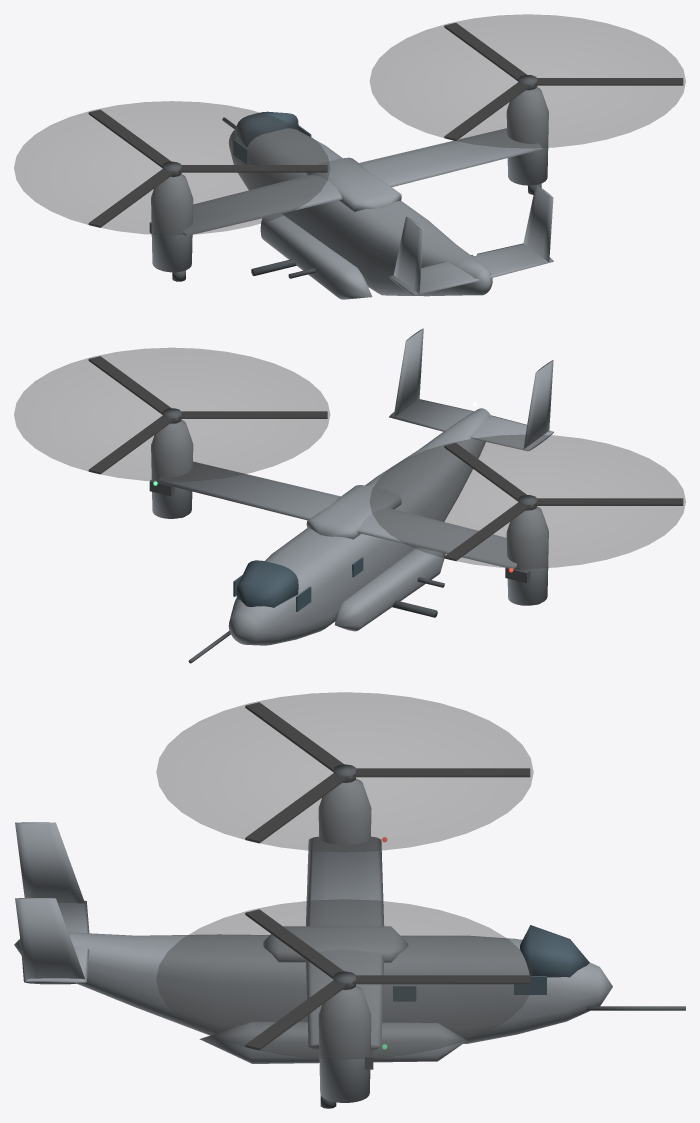
The model's file is vtol-warship.glb.
The picture shows the model from 3 angles, top to bottom: view 1: azimuth 30°, elevation 25°; view 2: azimuth 150°, elevation 25°; view 3: azimuth 270°, elevation 25°; orthographic projection. The views are drawn at different scales.
Visible parts, largest first — view 1: VTOL_Hull, VTOL_Blur_R, VTOL_Blur_L, VTOL_Nacelle_L, VTOL_Rotor_R, VTOL_Rotor_L, VTOL_Nacelle_R; view 2: VTOL_Hull, VTOL_Blur_L, VTOL_Blur_R, VTOL_Nacelle_L, VTOL_Rotor_L, VTOL_Rotor_R, VTOL_Nacelle_R; view 3: VTOL_Hull, VTOL_Blur_L, VTOL_Blur_R, VTOL_Nacelle_R, VTOL_Rotor_L, VTOL_Rotor_R, VTOL_Nacelle_L.
Part boxes in pixels (x1=…): VTOL_Hull: x1=183, y1=111, x2=553, y2=299; VTOL_Blur_R: x1=370, y1=14, x2=685, y2=148; VTOL_Blur_L: x1=14, y1=101, x2=329, y2=234; VTOL_Nacelle_L: x1=149, y1=174, x2=193, y2=281; VTOL_Rotor_R: x1=444, y1=23, x2=683, y2=140; VTOL_Rotor_L: x1=88, y1=109, x2=327, y2=227; VTOL_Nacelle_R: x1=506, y1=87, x2=548, y2=194; VTOL_Hull: x1=157, y1=328, x2=553, y2=663; VTOL_Blur_L: x1=370, y1=434, x2=685, y2=568; VTOL_Blur_R: x1=14, y1=348, x2=329, y2=481; VTOL_Nacelle_L: x1=505, y1=507, x2=548, y2=605; VTOL_Rotor_L: x1=444, y1=443, x2=683, y2=560; VTOL_Rotor_R: x1=88, y1=356, x2=327, y2=474; VTOL_Nacelle_R: x1=149, y1=420, x2=193, y2=518; VTOL_Hull: x1=14, y1=822, x2=685, y2=1063; VTOL_Blur_L: x1=156, y1=692, x2=533, y2=851; VTOL_Blur_R: x1=156, y1=899, x2=533, y2=1058; VTOL_Nacelle_R: x1=318, y1=986, x2=373, y2=1108; VTOL_Rotor_L: x1=245, y1=702, x2=530, y2=843; VTOL_Rotor_R: x1=245, y1=909, x2=530, y2=1050; VTOL_Nacelle_L: x1=318, y1=779, x2=371, y2=844.
Bounding box in the file's own units: 26.2 × 5.97 × 20.3.
